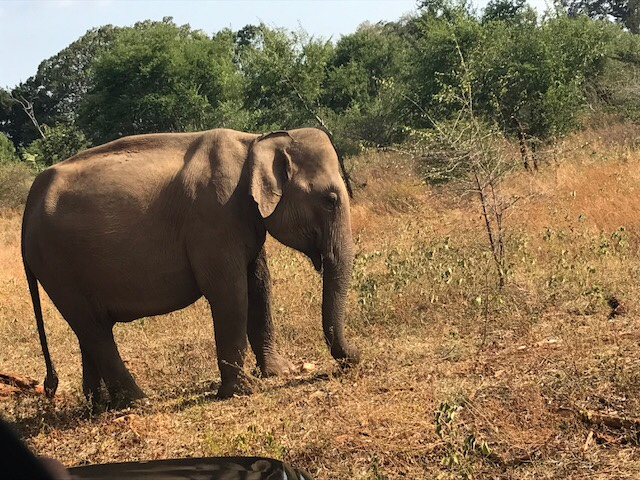elephant: (15, 123, 381, 414)
